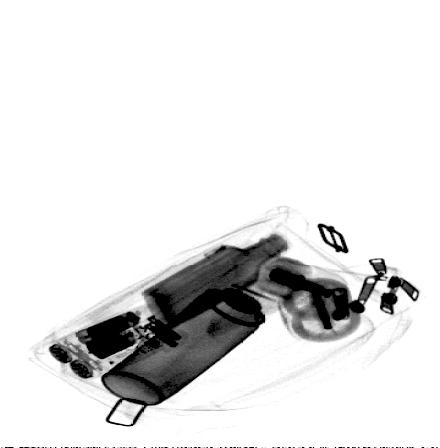Sprayer: (100, 251, 310, 407)
